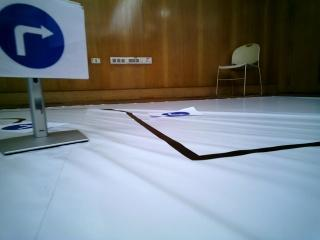right: (0, 0, 88, 84)
